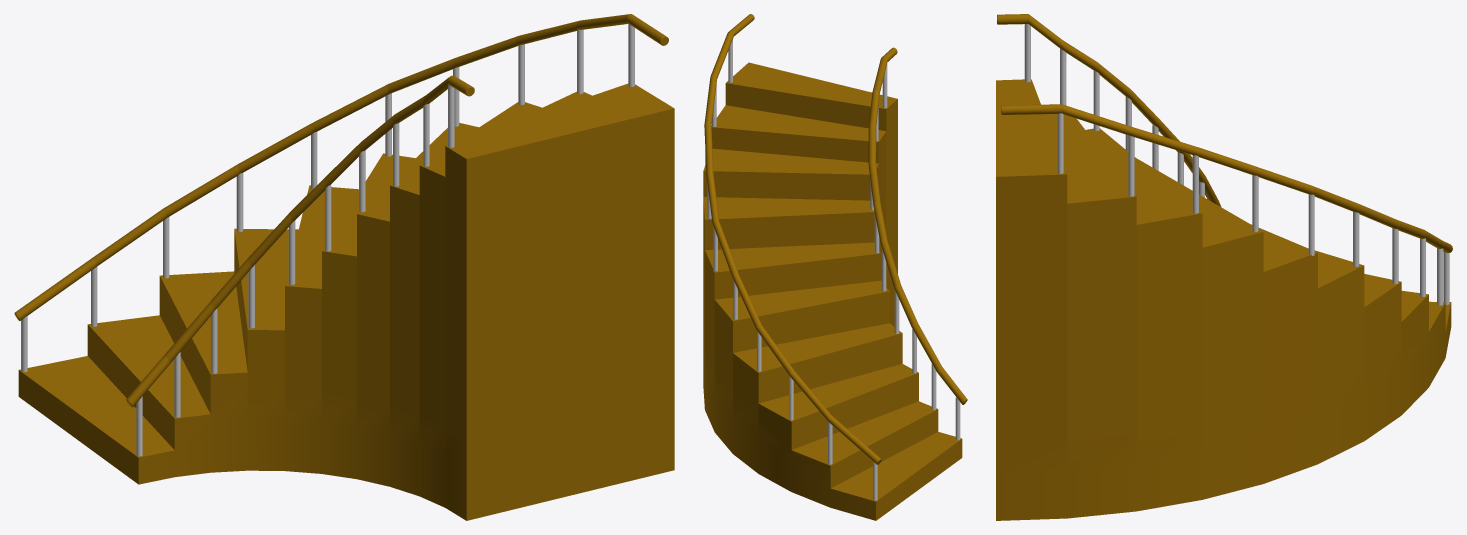
File: kaidann.fbx
3 views of the same model, side by side, from view 1: azimuth 30°, elevation 25°; view 2: azimuth 150°, elevation 25°; view 3: azimuth 270°, elevation 25° (orthographic). The views are drawn at different scales.
Parts seen in each view (by area): view 1: polySurface20, pCylinder45, pCylinder46; view 2: polySurface20, pCylinder45, pCylinder46; view 3: polySurface20, pCylinder45, pCylinder46.
Part boxes in pixels (x1,y1,x2,y2): polySurface20: [18, 83, 674, 520]; pCylinder45: [14, 14, 668, 320]; pCylinder46: [126, 75, 474, 407]; polySurface20: [703, 62, 962, 520]; pCylinder45: [704, 14, 881, 464]; pCylinder46: [868, 47, 967, 404]; polySurface20: [996, 79, 1451, 520]; pCylinder45: [1001, 104, 1452, 252]; pCylinder46: [997, 14, 1221, 206].
Bounding box in the file's own units: 6.14 × 5.97 × 6.
